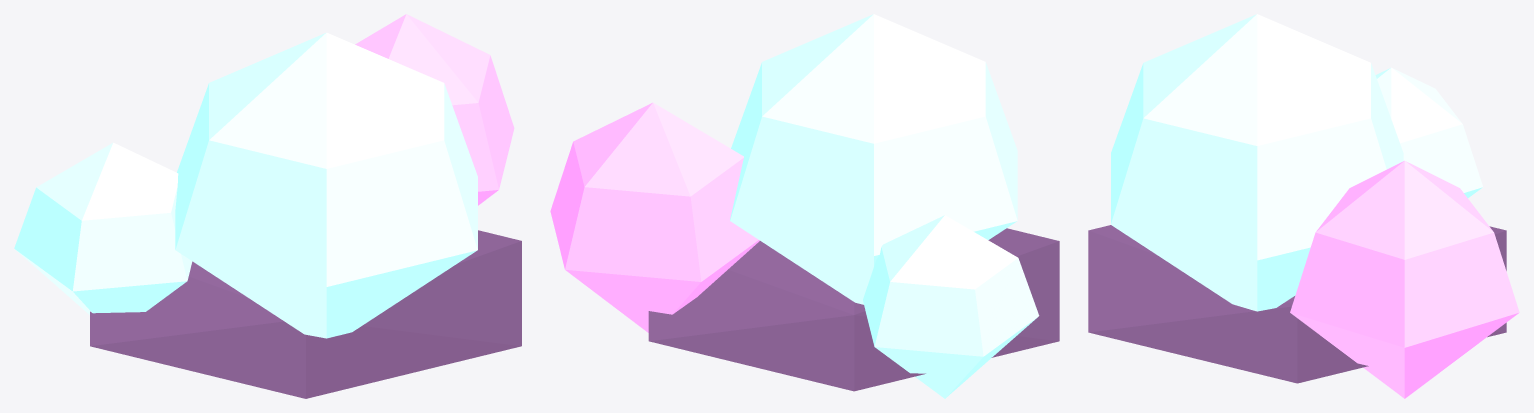
The model's file is resource_spores.glb.
3 views of the same model, side by side, from view 1: azimuth 30°, elevation 25°; view 2: azimuth 150°, elevation 25°; view 3: azimuth 270°, elevation 25° (orthographic). The views are drawn at different scales.
Visible parts, largest first — view 1: Resource_Spores; view 2: Resource_Spores; view 3: Resource_Spores.
Boxes of the visible parts, left/top/right/bottom form: Resource_Spores: left=14, top=14, right=521, bottom=398; Resource_Spores: left=550, top=14, right=1059, bottom=398; Resource_Spores: left=1088, top=14, right=1519, bottom=398.
Bounding box in the file's own units: 0.4 × 0.256 × 0.3215.
